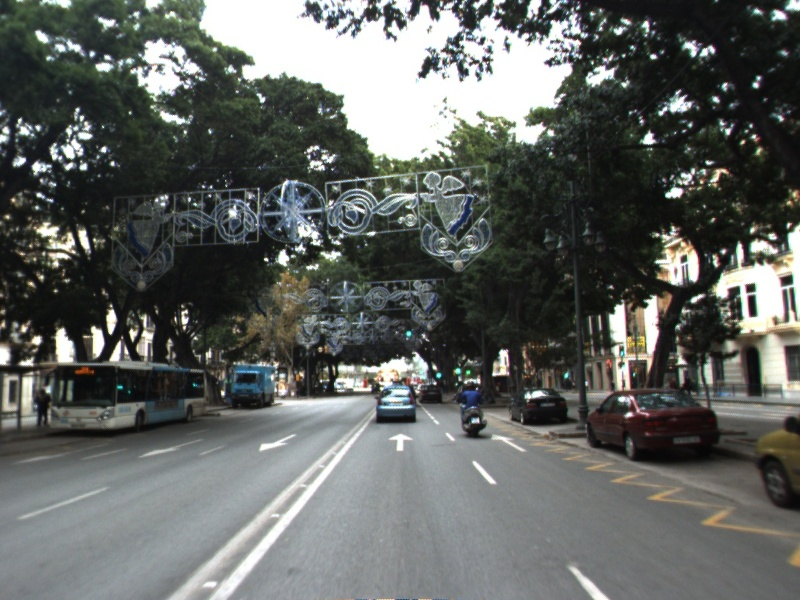STRAIGHT: (490, 432, 529, 454), (386, 432, 416, 453)
